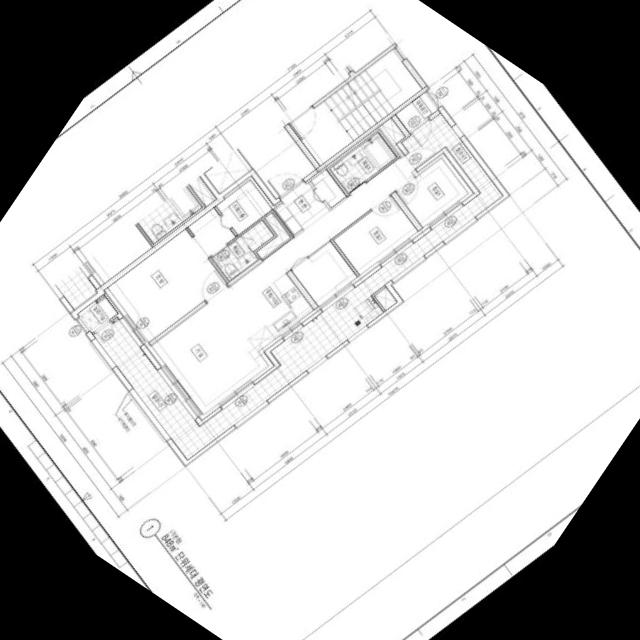background: (0, 0, 640, 640)
space_balconi: (93, 113, 502, 459)
space_bedroom: (107, 228, 226, 342), (333, 196, 417, 275), (396, 158, 468, 227)
space_dressroom: (187, 180, 272, 256)
space_front: (272, 181, 329, 236)
space_kitchen: (229, 272, 313, 351)
space_living_room: (151, 157, 414, 414)
space_other: (291, 241, 357, 306), (395, 92, 437, 132), (256, 212, 290, 259), (310, 169, 346, 207), (381, 117, 404, 144), (374, 287, 396, 310)
space_outdoor_room: (77, 294, 117, 333)
space_staircase: (290, 49, 422, 165)
space_toilet: (329, 132, 396, 194), (211, 219, 274, 281)
